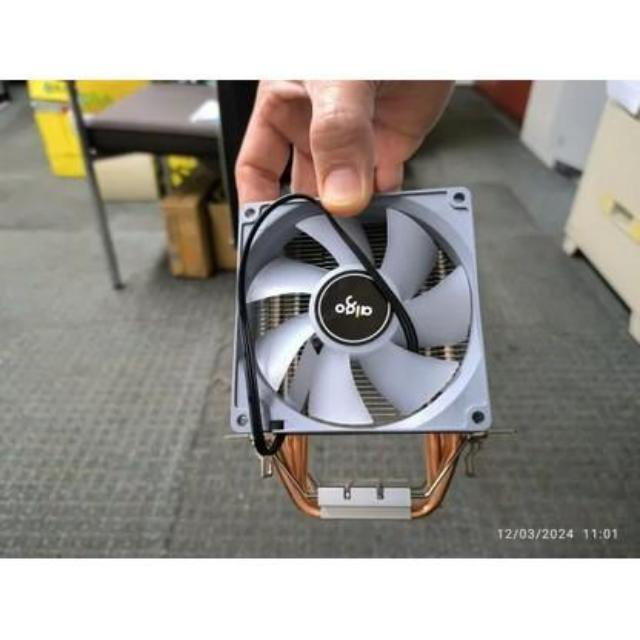CPU_Fan: (232, 195, 478, 520)
